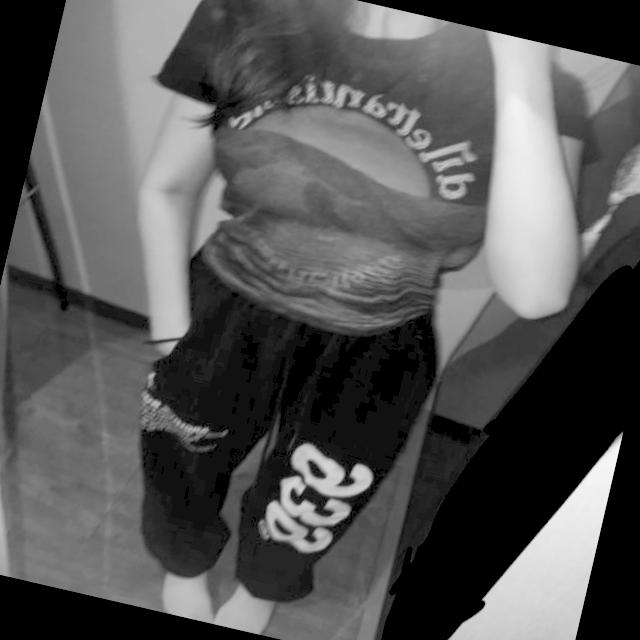shortsleeve: (111, 0, 640, 381)
trainingpants: (104, 247, 454, 629)
